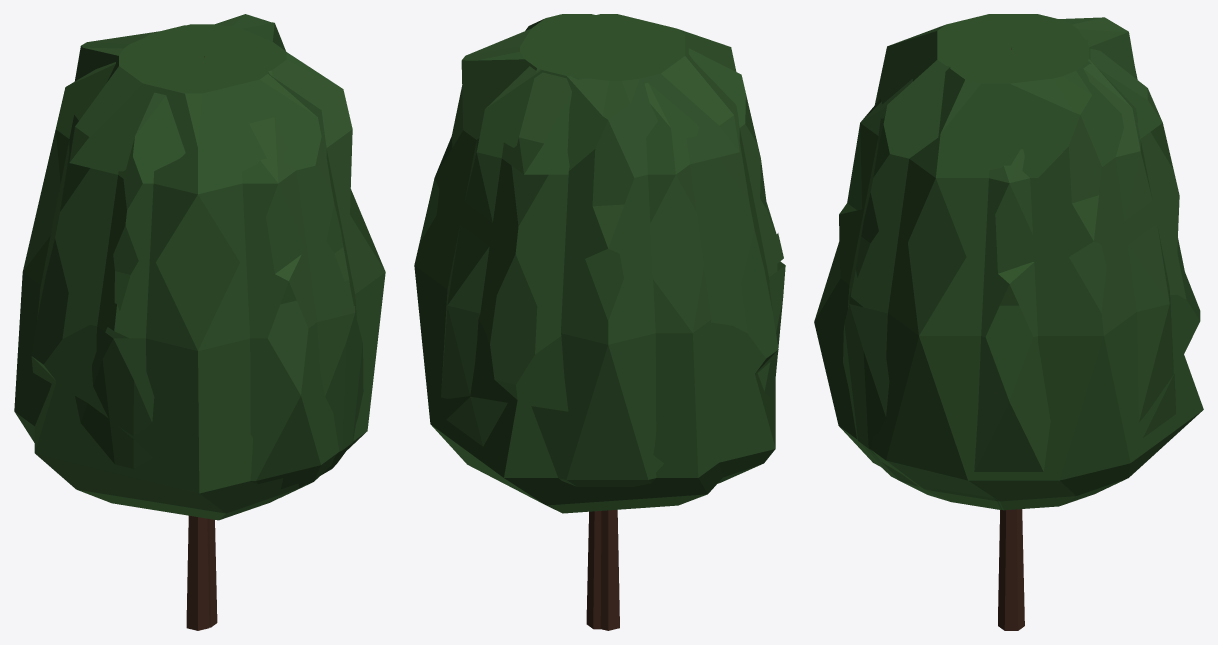
File: Tree.fbx
3 views of the same model, side by side, from view 1: azimuth 30°, elevation 25°; view 2: azimuth 150°, elevation 25°; view 3: azimuth 270°, elevation 25° (orthographic). The views are drawn at different scales.
Visible parts, largest first — view 1: Tree; view 2: Tree; view 3: Tree.
Boxes of the visible parts, x1=… form: Tree: x1=14, y1=14, x2=385, y2=630; Tree: x1=414, y1=14, x2=785, y2=630; Tree: x1=814, y1=14, x2=1203, y2=630.
Size of the model in its own units: 82.54 by 135 by 82.54.
